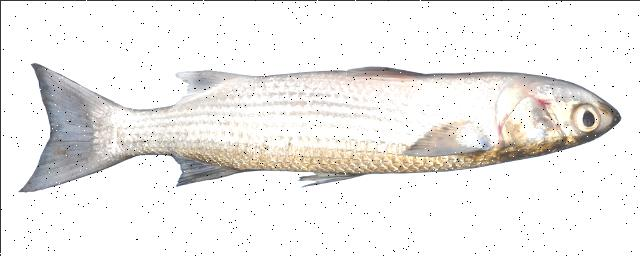Mulut: (591, 78, 629, 134)
Sirip Anal: (162, 65, 238, 115)
Sirip Dada: (400, 114, 490, 162)
Sirip Ekor: (13, 55, 102, 199)
Sirip Perut: (345, 52, 423, 88)
Sirip Punggung: (152, 150, 360, 200)
